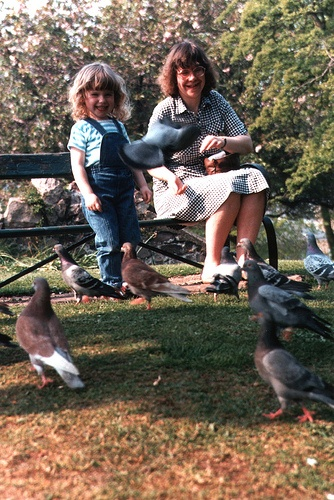head: (155, 39, 217, 99), (67, 63, 129, 123)
person: (134, 41, 270, 283), (64, 60, 152, 287)
